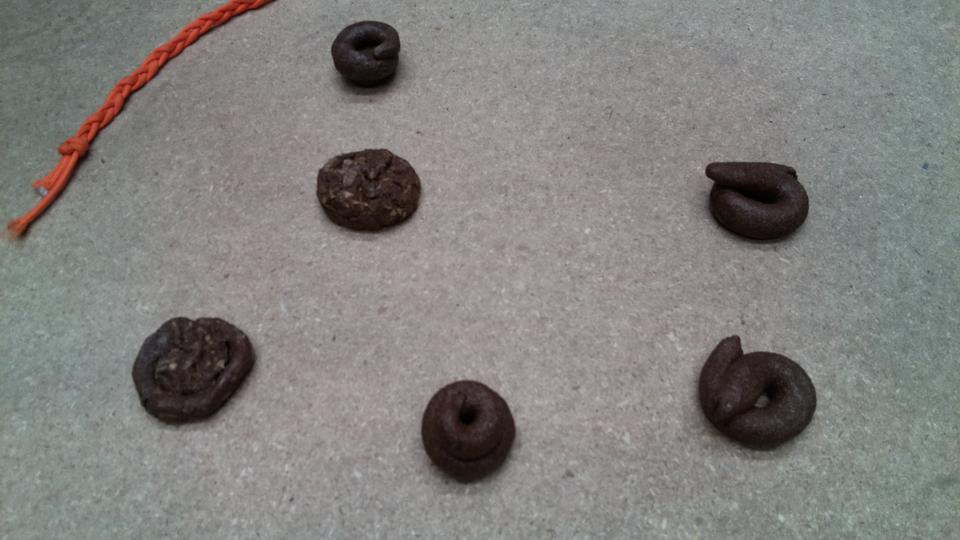poop: (695, 332, 821, 455), (129, 313, 260, 428), (420, 378, 518, 487), (315, 145, 425, 235), (701, 159, 813, 245), (329, 18, 403, 93)
rope: (13, 1, 262, 236)
